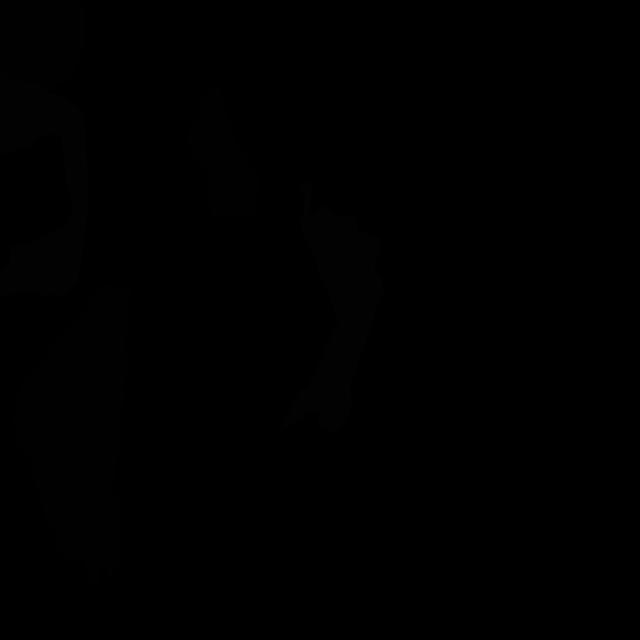cardboard: (280, 181, 386, 434), (0, 68, 89, 297)
rigid_plastic: (13, 284, 132, 591), (187, 86, 260, 220), (0, 0, 86, 90)
